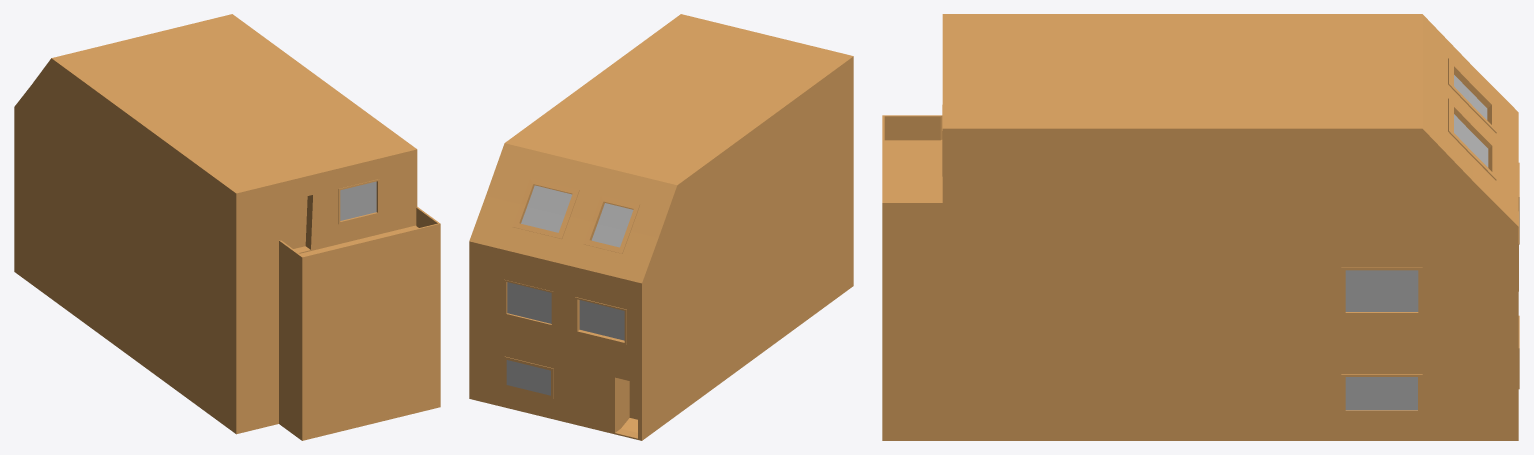
Rendered from house_001.fbx.
3 views of the same model, side by side, from view 1: azimuth 30°, elevation 25°; view 2: azimuth 150°, elevation 25°; view 3: azimuth 270°, elevation 25° (orthographic). The views are drawn at different scales.
Parts seen in each view (by area): view 1: Plane; view 2: Plane; view 3: Plane.
Boxes of the visible parts, x1,y1,x2,y2 form: Plane: (14,14,440,440); Plane: (469,14,853,440); Plane: (882,14,1519,440).
Bounding box in the file's own units: 60.28 × 76.26 × 141.
